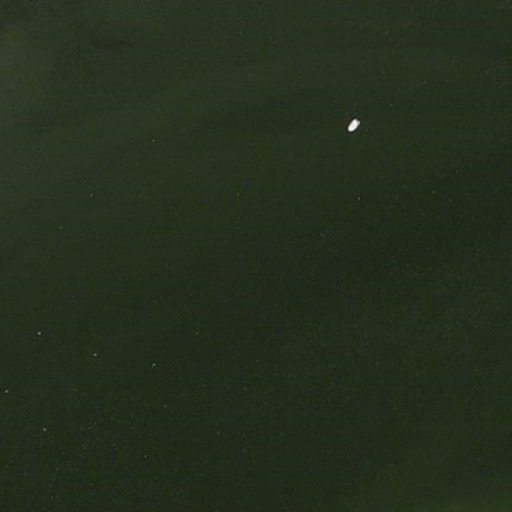ship: (344, 115, 363, 135)
